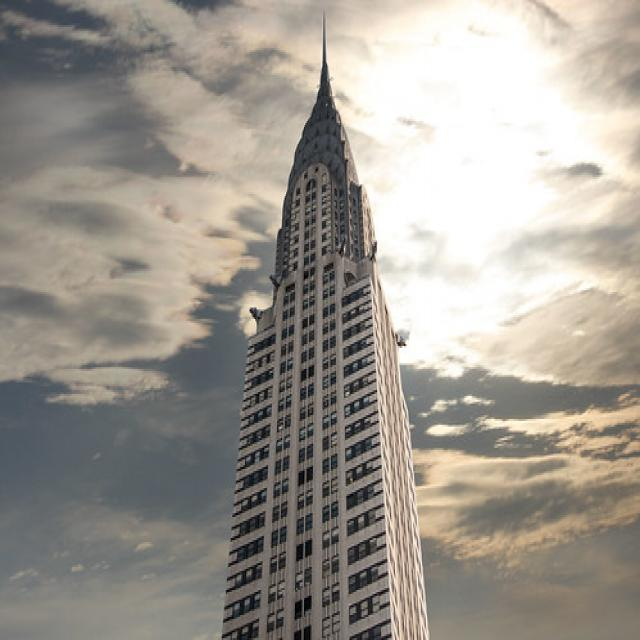Normal_building: (220, 80, 431, 640)
